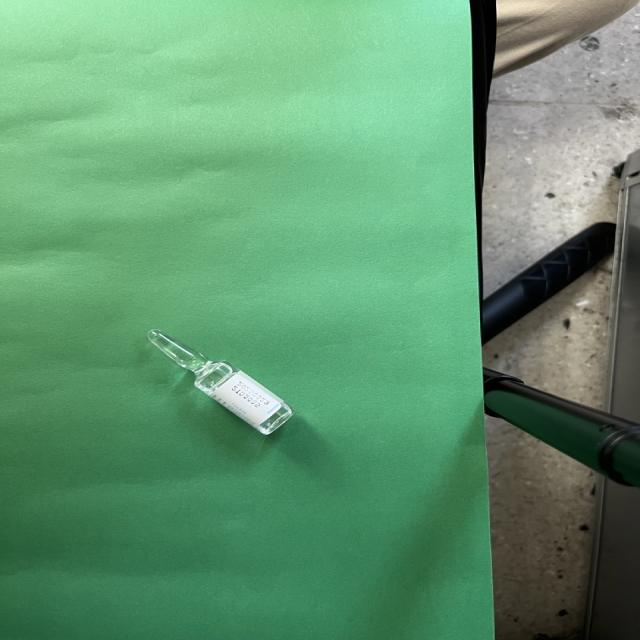Ampoules: (147, 330, 293, 436)
